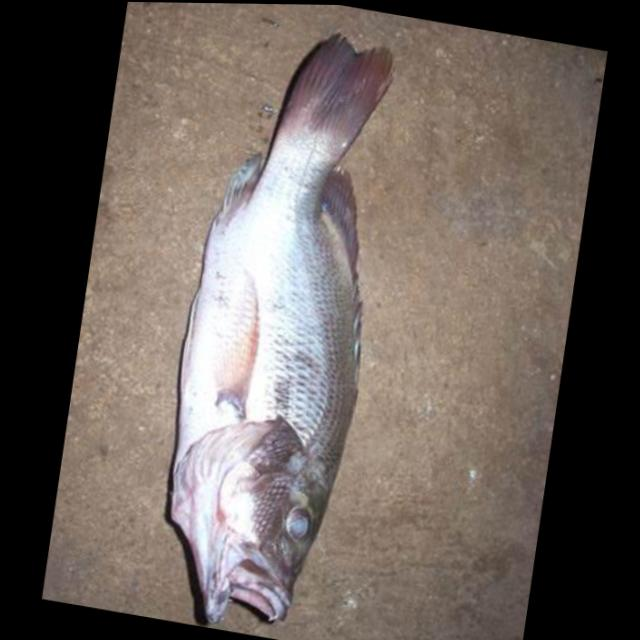Seabass: (137, 12, 415, 640)
